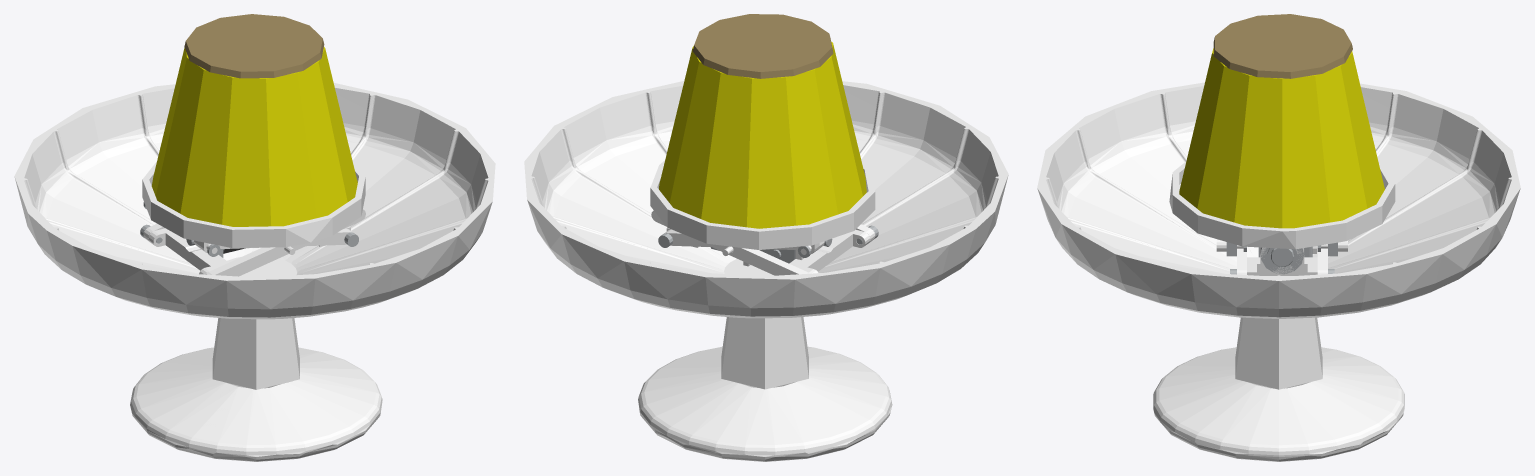
File: purin2.gltf
3 renders of one model, left to right at view 1: azimuth 30°, elevation 25°; view 2: azimuth 150°, elevation 25°; view 3: azimuth 270°, elevation 25°, orthographic.
Parts seen in each view (by area): view 1: glass, Assy; view 2: glass, Assy; view 3: glass, Assy.
Boxes of the visible parts, x1,y1,x2,y2 form: glass: [14, 83, 495, 461]; Assy: [140, 14, 365, 276]; glass: [524, 81, 1008, 461]; Assy: [650, 14, 878, 275]; glass: [1037, 82, 1520, 461]; Assy: [1169, 14, 1395, 275].
Bounding box in the file's own units: 0.1523 × 0.1273 × 0.1516.
